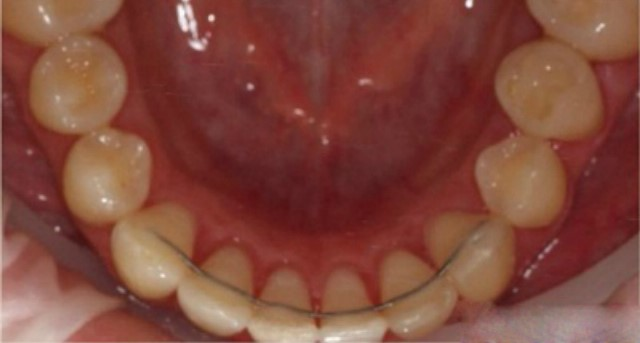LL1BC_healthy: (473, 136, 570, 229)
LL1M_healthy: (523, 1, 640, 60)
LL2BC_healthy: (493, 37, 603, 139)
LLCI_decay: (317, 258, 384, 343)
LLC_decay: (422, 214, 519, 302)
LLLI_decay: (375, 248, 458, 334)
LR1BC_healthy: (62, 128, 156, 226)
LR1M_healthy: (1, 1, 128, 36)
LR2BC_healthy: (28, 36, 129, 135)
LRCI_decay: (246, 265, 318, 342)
LRC_decay: (110, 201, 207, 300)
LRLI_decay: (177, 237, 258, 335)
